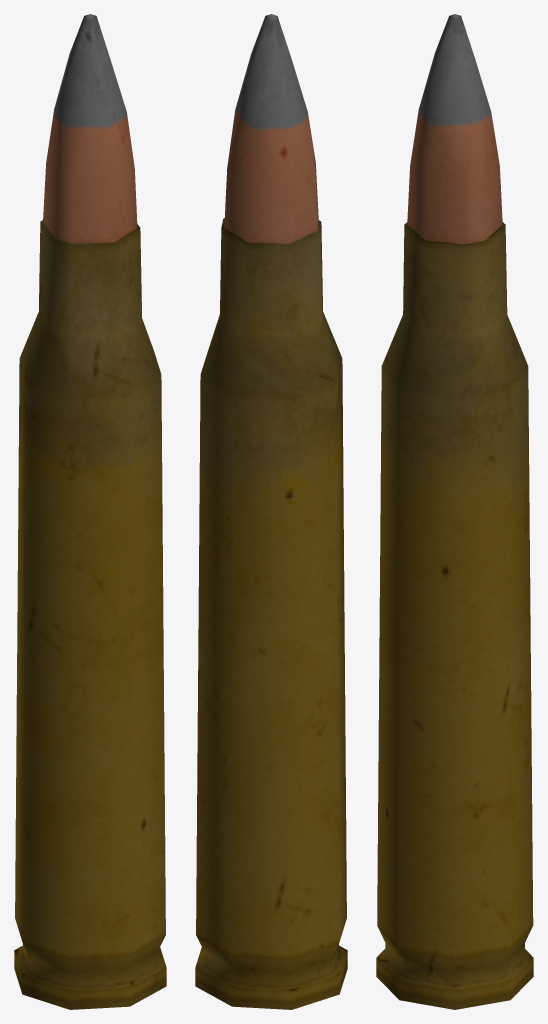
Rendered from Rounds50BMG.fbx.
3 renders of one model, left to right at view 1: azimuth 30°, elevation 25°; view 2: azimuth 150°, elevation 25°; view 3: azimuth 270°, elevation 25°, orthographic.
Visible parts, largest first — view 1: Rounds50BMG; view 2: Rounds50BMG; view 3: Rounds50BMG.
Part boxes in pixels (<box>): Rounds50BMG: <box>14,14,166,1009</box>; Rounds50BMG: <box>195,14,347,1009</box>; Rounds50BMG: <box>376,14,533,1009</box>.
Size of the model in its own units: 0.0134 by 0.0907 by 0.0134.
